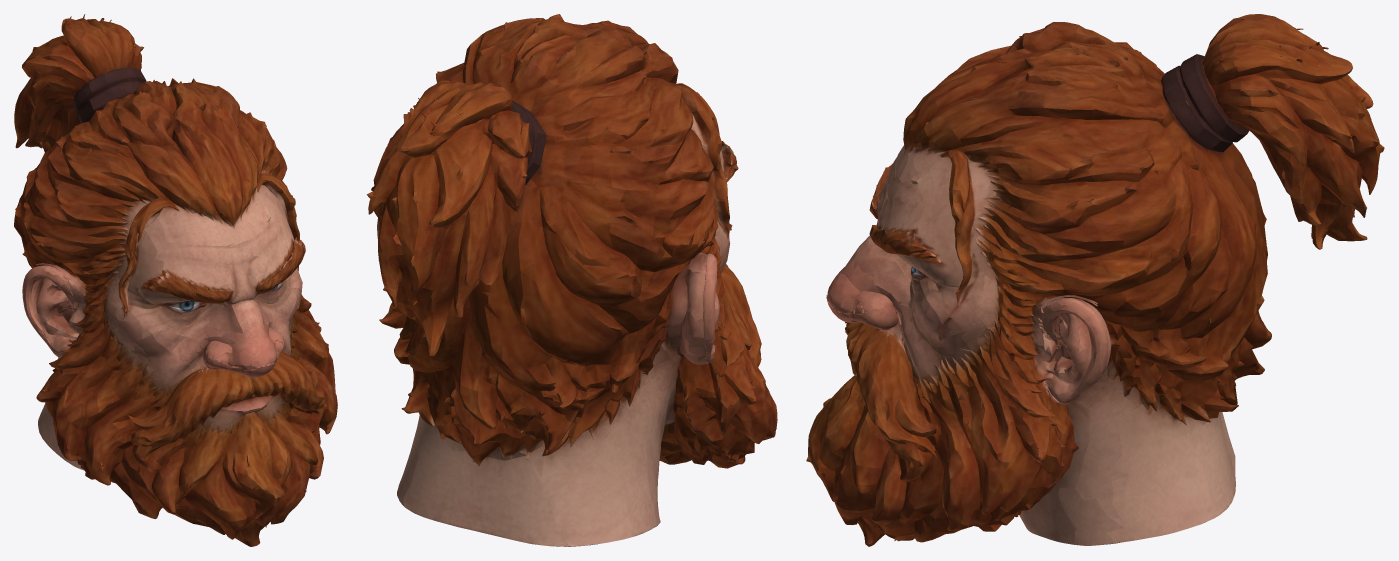
3 views of the same model, side by side, from view 1: azimuth 30°, elevation 25°; view 2: azimuth 150°, elevation 25°; view 3: azimuth 270°, elevation 25° (orthographic). The views are drawn at different scales.
Bounding box in the file's own units: 1.36 × 1.87 × 1.9.
Materials: 1 (1 with a texture image).
